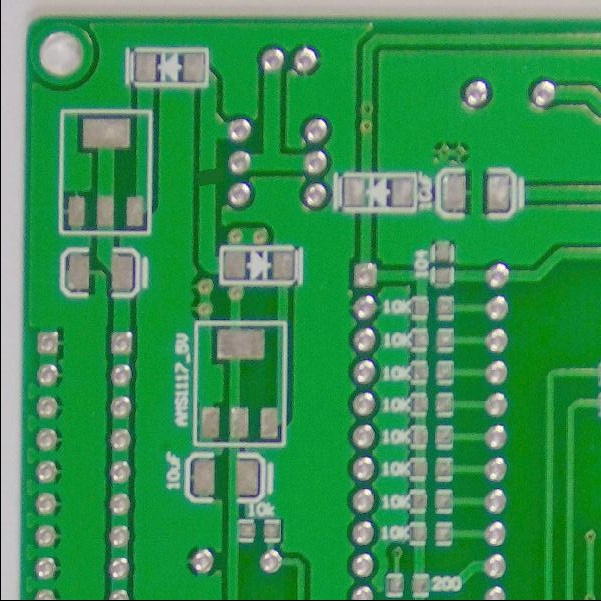open_circuit: (196, 163, 220, 193)
